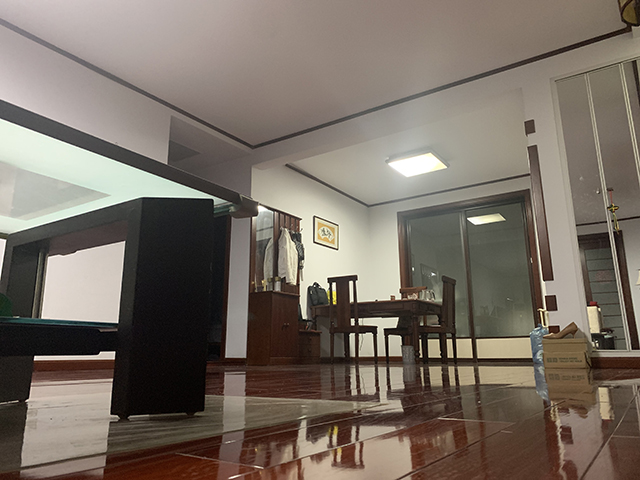cabinet: (246, 290, 300, 367), (299, 329, 323, 365)
stool: (326, 273, 380, 367), (383, 286, 431, 365), (417, 276, 459, 364)
table: (1, 96, 259, 422), (308, 298, 450, 365)
trashcan: (400, 343, 417, 365)
